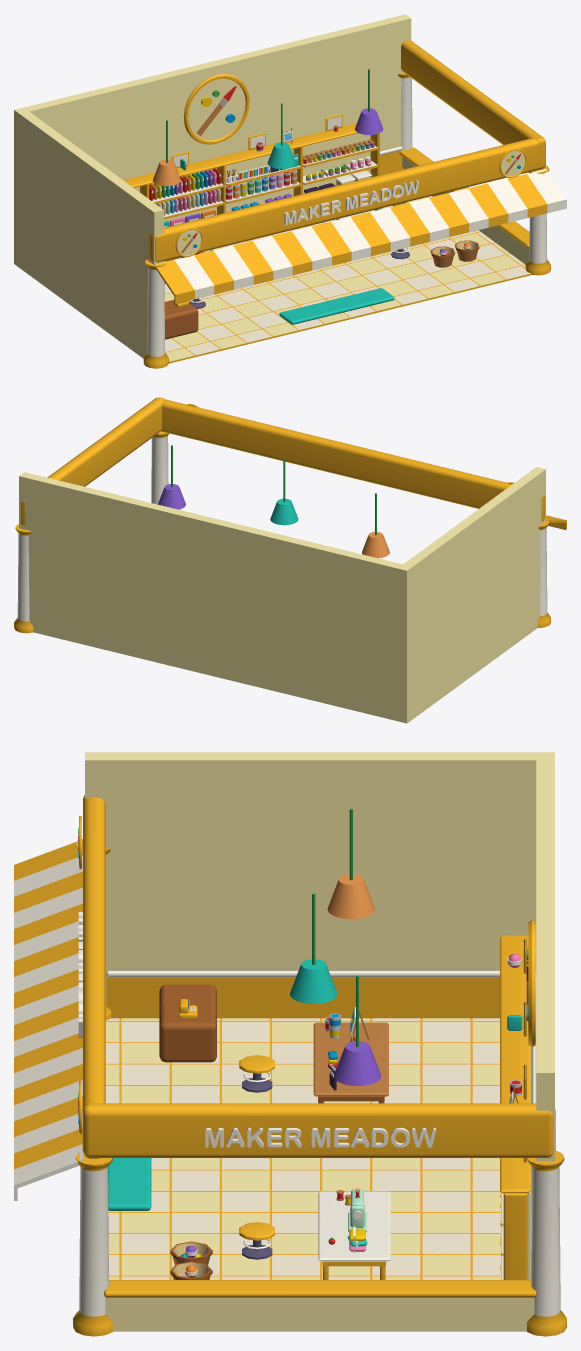
Rendered from maker_meadow.glb.
3 renders of one model, top to bottom at view 1: azimuth 30°, elevation 25°; view 2: azimuth 150°, elevation 25°; view 3: azimuth 270°, elevation 25°, orthographic. The views are drawn at different scales.
Parts seen in each view (by area): view 1: Shop_Maker_Front_Canopy, Shop_Maker_Back_Wall, Shop_Maker_Shell, Shop_Maker_Side_Wall, M_Maker_Supplies, Refined_Maker_Entry_Mat, Maker_Checkout, M_Maker_YarnBaskets, Maker_Pendant_Shade_1, Maker_Pendant_Shade_2, Maker_Pendant_Shade_0; view 2: Shop_Maker_Back_Wall, Shop_Maker_Side_Wall, Shop_Maker_Front_Canopy, Shop_Maker_Shell, Maker_Pendant_Shade_1, Maker_Pendant_Shade_2, Maker_Pendant_Shade_0; view 3: Shop_Maker_Side_Wall, Shop_Maker_Shell, Shop_Maker_Front_Canopy, M_Maker_Supplies, Shop_Maker_Back_Wall, M_Maker_Sewing, M_Maker_Workbench, Maker_Checkout, Refined_Maker_Entry_Mat, Maker_Pendant_Shade_1, Maker_Pendant_Shade_2, Maker_Pendant_Shade_0 (+3 smaller).
Boxes of the visible parts, x1,y1,x2,y2 form: Shop_Maker_Front_Canopy: (149, 40, 566, 303); Shop_Maker_Back_Wall: (14, 14, 411, 267); Shop_Maker_Shell: (143, 72, 550, 368); Shop_Maker_Side_Wall: (19, 111, 163, 358); M_Maker_Supplies: (110, 114, 379, 227); Refined_Maker_Entry_Mat: (279, 288, 394, 324); Maker_Checkout: (164, 300, 198, 339); M_Maker_YarnBaskets: (430, 240, 479, 267); Maker_Pendant_Shade_1: (267, 142, 295, 168); Maker_Pendant_Shade_2: (153, 159, 180, 186); Maker_Pendant_Shade_0: (355, 108, 382, 134); Shop_Maker_Back_Wall: (19, 472, 412, 723); Shop_Maker_Side_Wall: (403, 467, 545, 718); Shop_Maker_Front_Canopy: (21, 397, 566, 529); Shop_Maker_Shell: (14, 431, 550, 633); Maker_Pendant_Shade_1: (270, 498, 298, 525); Maker_Pendant_Shade_2: (362, 532, 389, 558); Maker_Pendant_Shade_0: (158, 484, 185, 509); Shop_Maker_Side_Wall: (85, 752, 536, 1018); Shop_Maker_Shell: (73, 838, 566, 1336); Shop_Maker_Front_Canopy: (14, 795, 555, 1200); M_Maker_Supplies: (500, 935, 530, 1279); Shop_Maker_Back_Wall: (526, 752, 554, 1210); M_Maker_Sewing: (318, 1188, 390, 1279); M_Maker_Workbench: (313, 1000, 388, 1103); Maker_Checkout: (159, 984, 216, 1062); Refined_Maker_Entry_Mat: (108, 1158, 151, 1210); Maker_Pendant_Shade_1: (290, 959, 337, 1003); Maker_Pendant_Shade_2: (327, 874, 374, 919); Maker_Pendant_Shade_0: (334, 1041, 381, 1085).
Bounding box in the file's own units: 12.48 × 4.89 × 8.82.
Materials: 28 (1 with a texture image).
